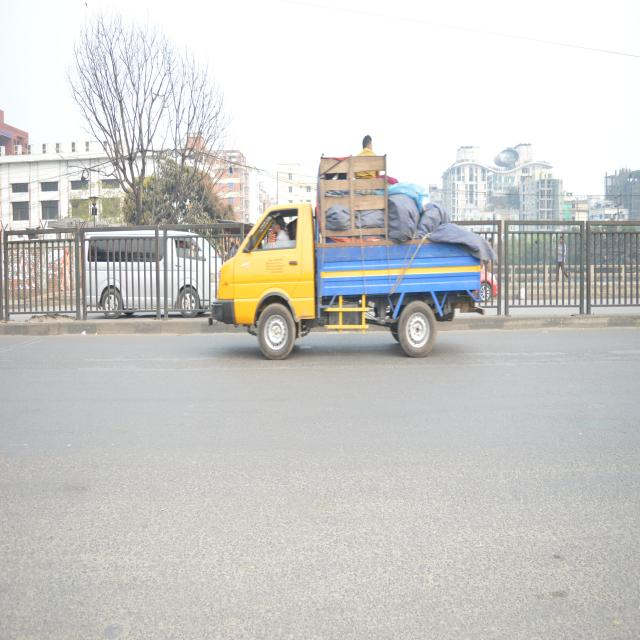pickup-van: (208, 125, 509, 379)
